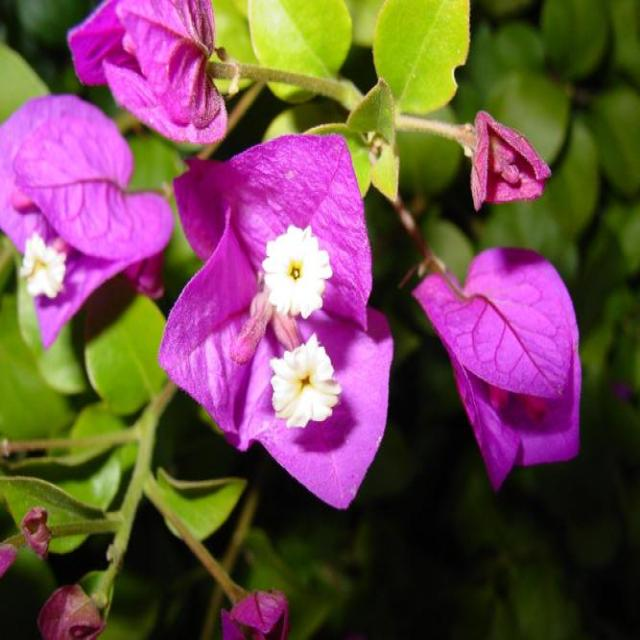bougainvillea: (19, 17, 640, 611)
